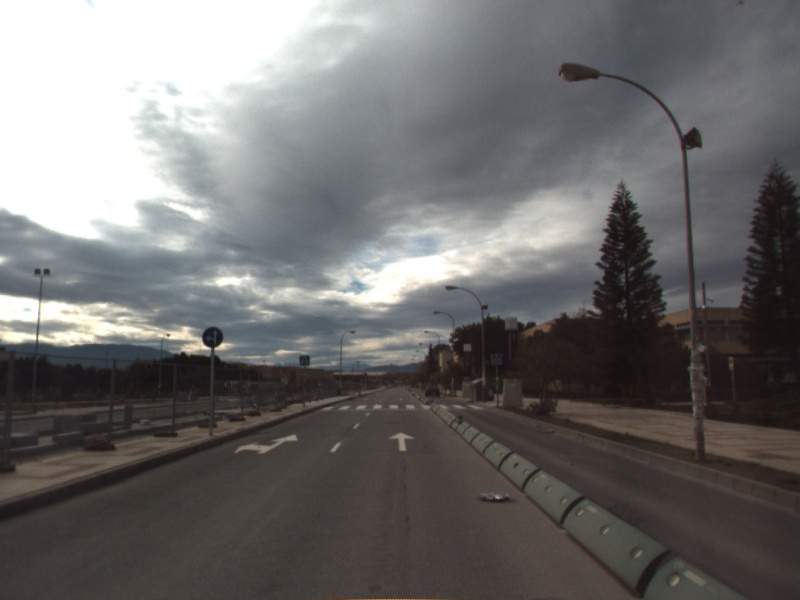STRAIGHT: (387, 430, 417, 453)
STRAIGHT_LEFT: (232, 432, 300, 456)
